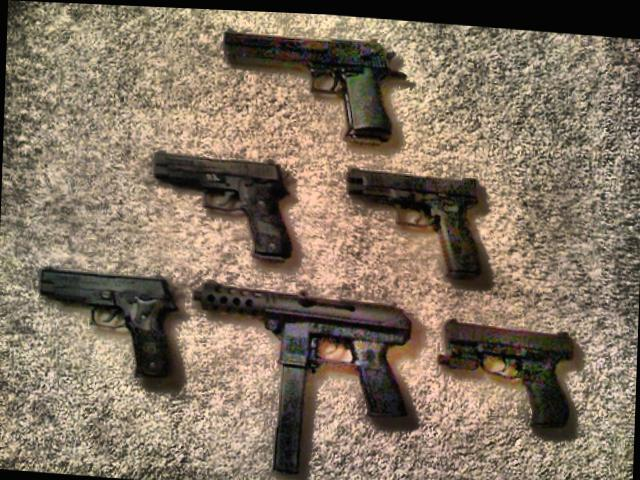pistol: (218, 22, 408, 141), (340, 161, 489, 275), (436, 308, 576, 428), (150, 146, 294, 259), (36, 263, 180, 376)
